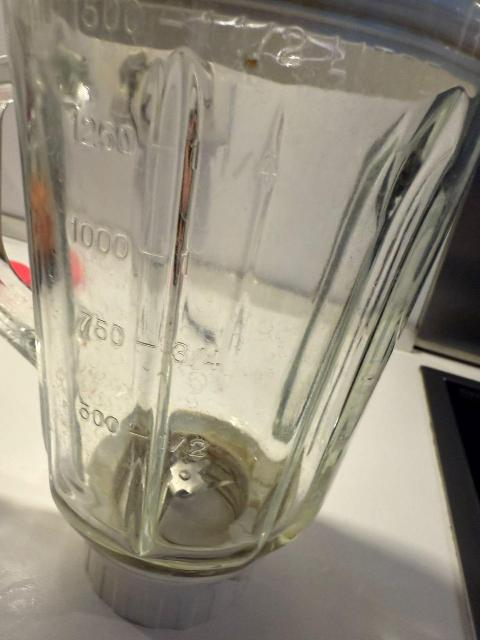Cam: (0, 0, 480, 576)
Plastik: (82, 552, 280, 638)
